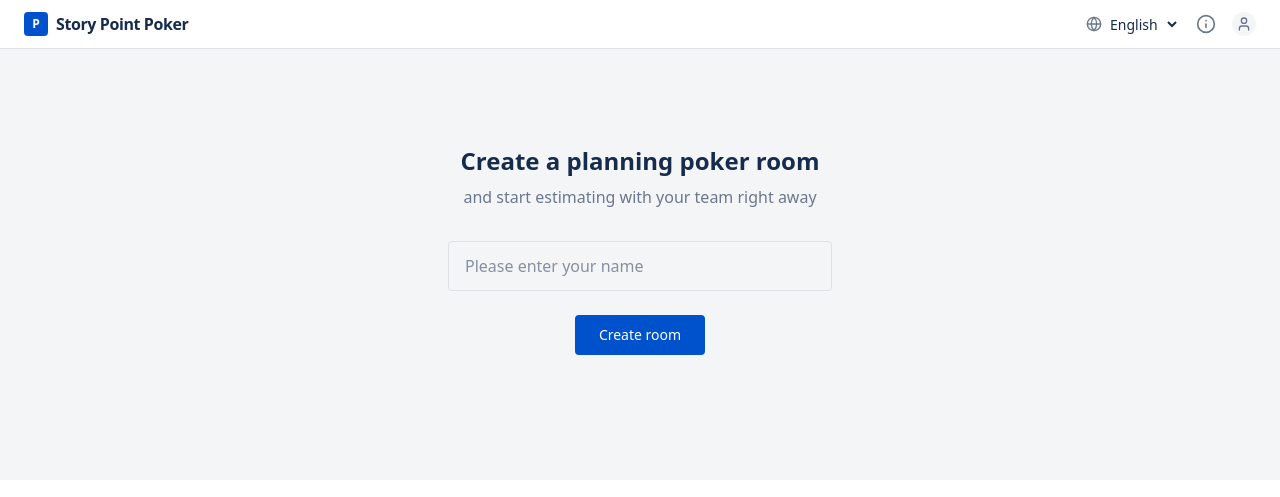
Create room — name validation › blocks a name that's too short and shows the real error message
Type "A" into the field with placeholder "Please enter your name" at x=640, y=266, box left=448, top=241, right=832, bottom=291
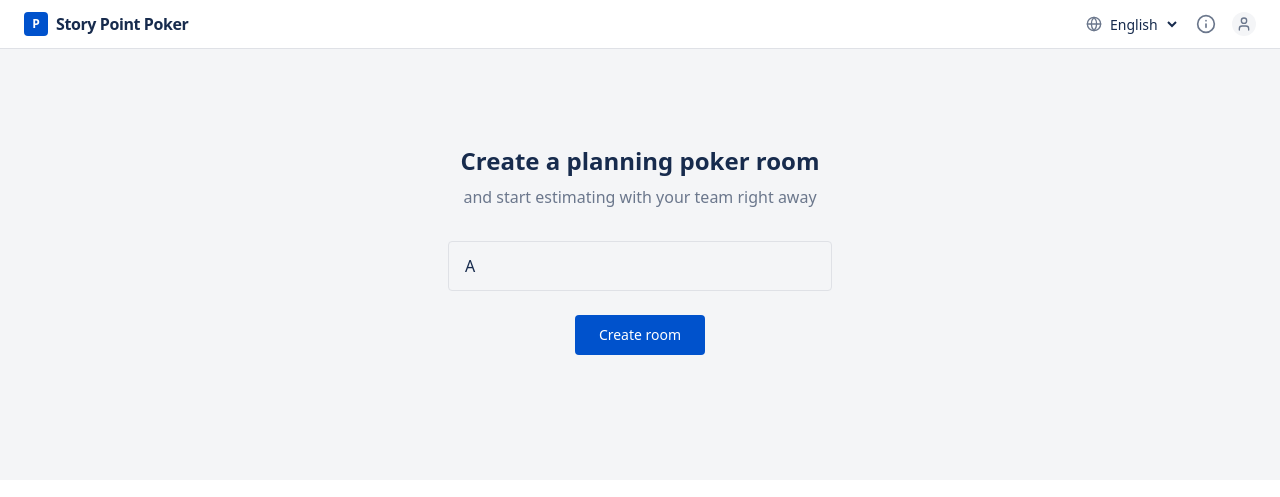
Click the button "Create room" at x=640, y=335, box left=575, top=315, right=705, bottom=355
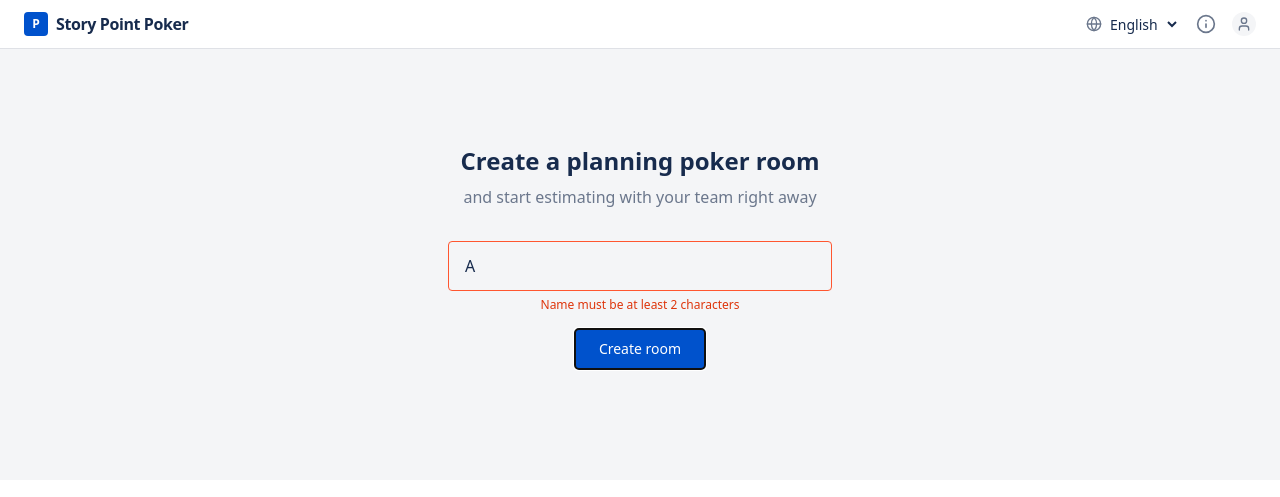
Check: the text "Name must be at least 2 characters" is shown, box left=540, top=297, right=740, bottom=313
